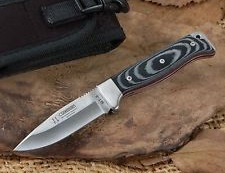knife: (10, 77, 129, 154)
